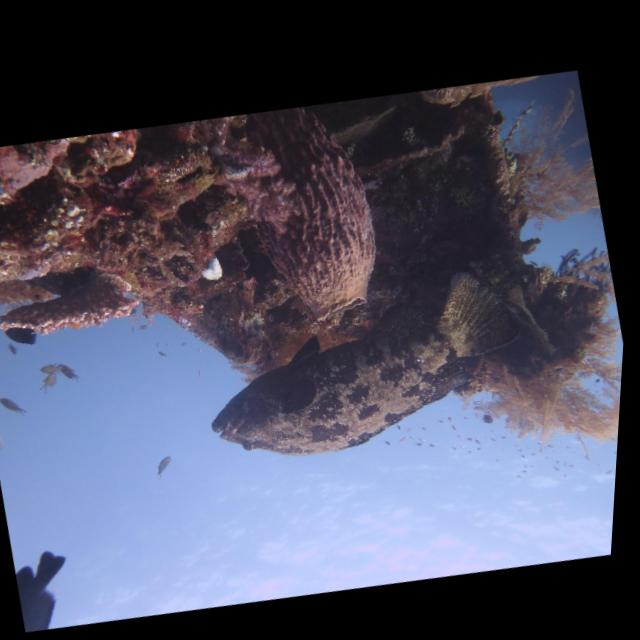Groupers: (179, 229, 553, 496)
